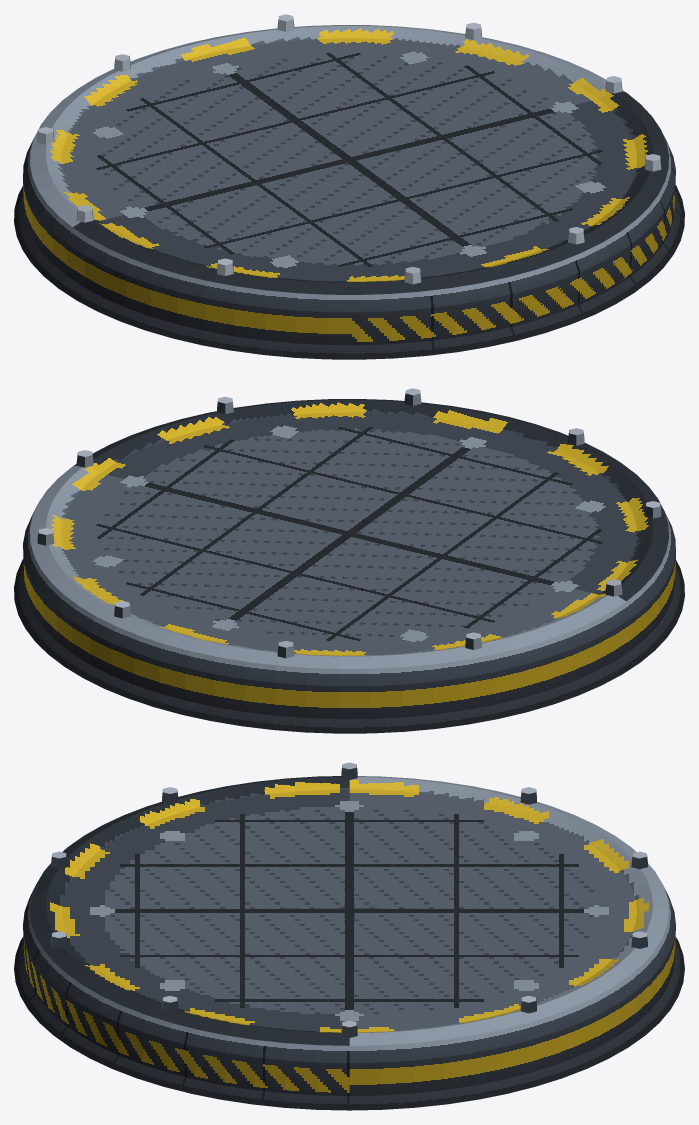
Rendered from platform_metal.glb.
The picture shows the model from 3 angles, top to bottom: view 1: azimuth 30°, elevation 25°; view 2: azimuth 150°, elevation 25°; view 3: azimuth 270°, elevation 25°; orthographic projection.
Parts seen in each view (by area): view 1: platform_metal, plat_metal; view 2: platform_metal, plat_metal; view 3: platform_metal, plat_metal.
Part boxes in pixels (left/top/right/bottom): platform_metal: left=14, top=25, right=684, bottom=359; plat_metal: left=37, top=14, right=661, bottom=284; platform_metal: left=14, top=399, right=684, bottom=733; plat_metal: left=37, top=388, right=661, bottom=658; platform_metal: left=14, top=776, right=684, bottom=1110; plat_metal: left=51, top=762, right=647, bottom=1037.
Size of the model in its own units: 2.1 by 0.255 by 2.1.
3 materials, 2 textured.
